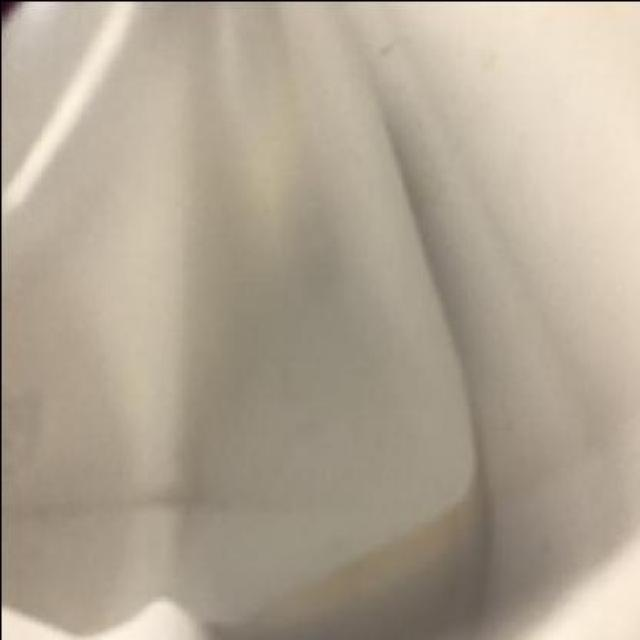PLASTIC: (2, 0, 476, 634)
